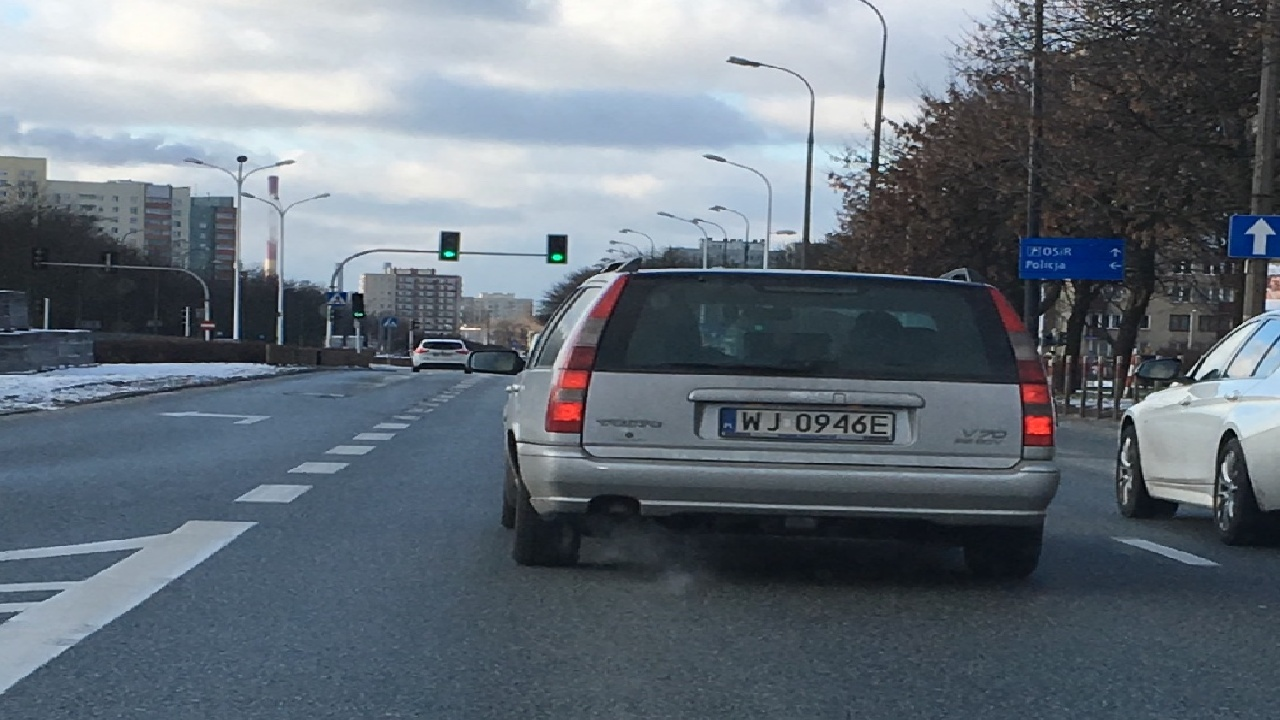D3: (1227, 211, 1280, 261)
